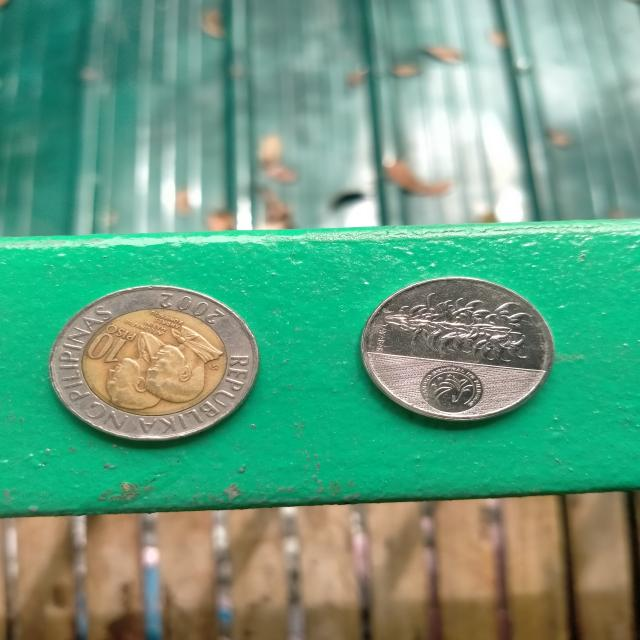10_Old_Front: (78, 310, 144, 372)
5_New_Back: (390, 290, 537, 368)
